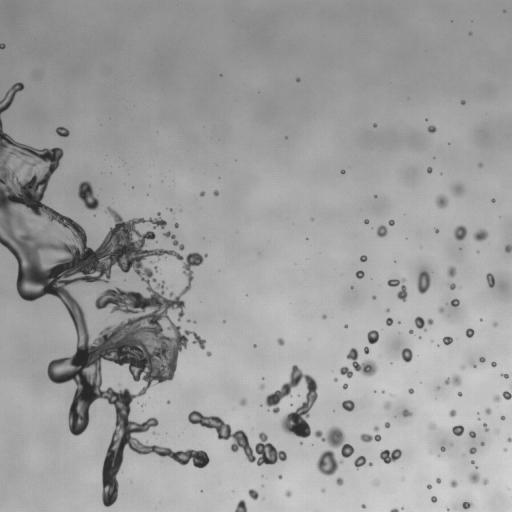droplet: (77, 181, 100, 211), (468, 466, 488, 485), (379, 448, 402, 463), (417, 270, 430, 294), (414, 316, 433, 331), (444, 373, 462, 386), (453, 225, 467, 241), (450, 182, 465, 196), (435, 194, 448, 209), (366, 330, 379, 344), (473, 229, 488, 241), (339, 366, 354, 378), (354, 455, 366, 470), (341, 399, 354, 411), (234, 499, 247, 511), (55, 126, 69, 137), (401, 348, 412, 362), (452, 424, 464, 436), (486, 272, 495, 287), (376, 225, 387, 237), (52, 136, 63, 147), (34, 140, 45, 151), (91, 187, 102, 198), (446, 193, 457, 204), (444, 226, 455, 237), (97, 227, 108, 238), (161, 238, 172, 249), (87, 239, 98, 250), (143, 239, 154, 250), (406, 284, 417, 295), (167, 306, 178, 317), (178, 320, 189, 331), (375, 321, 386, 332), (453, 329, 464, 340), (185, 339, 196, 350), (65, 345, 76, 356), (66, 379, 77, 390), (296, 380, 307, 391), (278, 396, 289, 407), (292, 396, 303, 407), (402, 396, 413, 407), (92, 397, 103, 408), (450, 397, 461, 408), (59, 414, 70, 425), (304, 414, 315, 425), (486, 414, 497, 425), (247, 435, 258, 446), (156, 437, 167, 448), (377, 439, 388, 450), (319, 440, 330, 451), (458, 475, 469, 486), (278, 479, 289, 490), (93, 483, 104, 494), (442, 336, 455, 345), (248, 489, 258, 500), (447, 266, 456, 277), (465, 328, 474, 338), (427, 421, 436, 431), (401, 409, 412, 417), (461, 502, 473, 509), (355, 270, 364, 279), (276, 337, 285, 346), (238, 397, 247, 406), (444, 190, 453, 199), (428, 200, 437, 209), (96, 202, 105, 211), (439, 206, 448, 215), (370, 219, 379, 228), (164, 222, 173, 231), (153, 226, 162, 235), (465, 230, 474, 239), (356, 261, 365, 270), (449, 289, 458, 298), (44, 292, 53, 301), (483, 317, 492, 326), (176, 350, 185, 359), (356, 354, 365, 363), (344, 359, 353, 368), (299, 365, 308, 374), (352, 369, 361, 378), (458, 370, 467, 379), (486, 399, 495, 408), (474, 425, 483, 434), (377, 426, 386, 435), (290, 433, 299, 442), (470, 437, 479, 446), (191, 442, 200, 451), (97, 451, 106, 460), (333, 468, 342, 477), (477, 469, 486, 478), (94, 472, 103, 481), (114, 472, 123, 481), (441, 477, 450, 486), (244, 497, 253, 506), (427, 125, 436, 133), (468, 359, 476, 368), (383, 400, 391, 409), (449, 479, 458, 487), (104, 505, 115, 511), (493, 394, 501, 402), (468, 430, 476, 438), (386, 317, 393, 326), (363, 345, 370, 354), (504, 244, 511, 252), (449, 409, 456, 417), (469, 446, 476, 454), (336, 477, 343, 485), (285, 489, 292, 497), (0, 89, 5, 100), (483, 422, 489, 431), (360, 255, 367, 262), (258, 383, 265, 390), (430, 496, 437, 503), (427, 118, 434, 125), (1, 126, 8, 133), (46, 143, 53, 150), (58, 157, 65, 164), (49, 172, 56, 179), (46, 179, 53, 186), (72, 186, 79, 193), (205, 189, 212, 196), (40, 197, 47, 204), (77, 199, 84, 206), (87, 208, 94, 215), (61, 209, 68, 216), (150, 212, 157, 219), (71, 215, 78, 222), (121, 215, 128, 222), (102, 227, 109, 234), (448, 232, 455, 239), (479, 238, 486, 245), (456, 239, 463, 246), (172, 245, 179, 252), (180, 250, 187, 257), (450, 260, 457, 267), (441, 268, 448, 275), (11, 270, 18, 277), (447, 276, 454, 283), (481, 279, 488, 286), (10, 285, 17, 292), (393, 285, 400, 292), (15, 295, 22, 302), (33, 297, 40, 304), (24, 299, 31, 306), (409, 322, 416, 329), (186, 323, 193, 330), (413, 327, 420, 334), (186, 333, 193, 340), (362, 339, 369, 346), (367, 342, 374, 349), (356, 347, 363, 354), (54, 352, 61, 359), (484, 357, 491, 364), (347, 364, 354, 371), (340, 374, 347, 381), (283, 376, 290, 383), (314, 378, 321, 385), (162, 379, 169, 386), (275, 383, 282, 390), (289, 386, 296, 393), (315, 386, 322, 393), (267, 387, 274, 394), (234, 393, 241, 400), (382, 393, 389, 400), (299, 395, 306, 402), (66, 396, 73, 403), (259, 396, 266, 403), (232, 399, 239, 406), (245, 399, 252, 406), (128, 401, 135, 408), (108, 404, 115, 411), (289, 405, 296, 412), (395, 408, 402, 415), (479, 411, 486, 418), (127, 414, 134, 421), (222, 416, 229, 423), (84, 425, 91, 432), (209, 427, 216, 434), (81, 429, 88, 436), (368, 429, 375, 436), (461, 430, 468, 437), (129, 431, 136, 438), (308, 432, 315, 439), (227, 436, 234, 443), (475, 444, 482, 451), (236, 446, 243, 453), (149, 451, 156, 458), (350, 452, 357, 459), (313, 453, 320, 460), (164, 455, 171, 462), (172, 460, 179, 467), (119, 461, 126, 468), (429, 478, 436, 485), (116, 485, 123, 492), (253, 485, 260, 492), (427, 489, 434, 496), (96, 496, 103, 503), (231, 500, 238, 507), (111, 501, 118, 508), (485, 407, 491, 415), (506, 412, 511, 421), (388, 219, 394, 226), (449, 283, 455, 290), (438, 306, 444, 313), (478, 356, 485, 362), (342, 382, 348, 389), (384, 422, 390, 429), (373, 479, 379, 486), (199, 190, 205, 196), (213, 190, 219, 196), (206, 350, 212, 356), (408, 388, 414, 394), (373, 425, 379, 431), (435, 477, 441, 483), (427, 166, 432, 173), (459, 365, 466, 370), (0, 43, 5, 49), (477, 162, 483, 167), (321, 314, 327, 319), (492, 321, 497, 327), (491, 361, 496, 367), (494, 428, 499, 434), (426, 484, 432, 489), (445, 505, 450, 511), (507, 238, 511, 245), (460, 100, 465, 105), (340, 169, 345, 174), (364, 219, 369, 224), (434, 228, 439, 233), (333, 377, 338, 382), (500, 415, 505, 420), (506, 437, 511, 442), (440, 446, 445, 451), (295, 72, 300, 77), (17, 77, 22, 82), (9, 80, 14, 85), (22, 81, 27, 86), (15, 90, 20, 95), (460, 95, 465, 100), (8, 104, 13, 109), (2, 109, 7, 114), (1, 120, 6, 125), (58, 121, 63, 126), (55, 122, 60, 127), (63, 123, 68, 128), (435, 126, 440, 131), (68, 130, 73, 135), (428, 131, 433, 136), (431, 131, 436, 136), (79, 177, 84, 182), (198, 186, 203, 191), (43, 190, 48, 195), (194, 191, 199, 196), (213, 195, 218, 200), (55, 207, 60, 212), (136, 213, 141, 218), (364, 214, 369, 219), (143, 215, 148, 220), (161, 215, 166, 220), (456, 221, 461, 226), (110, 222, 115, 227), (156, 224, 161, 229), (385, 224, 390, 229), (372, 227, 377, 232), (174, 235, 179, 240), (376, 235, 381, 240), (381, 235, 386, 240), (177, 239, 182, 244), (141, 245, 146, 250), (500, 245, 505, 250), (199, 251, 204, 256), (9, 253, 14, 258), (202, 257, 207, 262), (12, 258, 17, 263), (13, 261, 18, 266), (189, 264, 194, 269), (454, 267, 459, 272), (389, 274, 394, 279), (493, 276, 498, 281), (190, 279, 195, 284), (454, 282, 459, 287), (425, 288, 430, 293), (186, 289, 191, 294), (15, 293, 20, 298), (405, 294, 410, 299), (179, 295, 184, 300), (397, 298, 402, 303), (440, 302, 445, 307), (447, 303, 452, 308), (175, 307, 180, 312), (182, 307, 187, 312), (320, 309, 325, 314), (325, 311, 330, 316), (386, 312, 391, 317), (413, 312, 418, 317), (316, 314, 321, 319), (180, 315, 185, 320), (325, 316, 330, 321), (422, 316, 427, 321), (67, 317, 72, 322), (392, 318, 397, 323), (432, 319, 437, 324), (173, 320, 178, 325), (423, 321, 428, 326), (371, 325, 376, 330), (179, 329, 184, 334), (461, 332, 466, 337), (276, 333, 281, 338), (72, 334, 77, 339), (199, 334, 204, 339), (281, 335, 286, 340), (377, 335, 382, 340), (273, 340, 278, 345), (203, 341, 208, 346), (431, 341, 436, 346), (439, 341, 444, 346), (194, 342, 199, 347), (404, 343, 409, 348), (397, 347, 402, 352), (344, 349, 349, 354), (210, 352, 215, 357), (398, 356, 403, 361), (410, 356, 415, 361), (46, 357, 51, 362), (475, 360, 480, 365), (43, 363, 48, 368), (287, 367, 292, 372), (173, 369, 178, 374), (335, 369, 340, 374), (441, 375, 446, 380), (448, 381, 453, 386), (440, 382, 445, 387), (456, 386, 461, 391), (145, 388, 150, 393), (376, 388, 381, 393), (384, 389, 389, 394), (343, 395, 348, 400), (387, 396, 392, 401), (314, 398, 319, 403), (353, 401, 358, 406), (262, 403, 267, 408), (337, 403, 342, 408), (236, 404, 241, 409), (242, 404, 247, 409), (450, 404, 455, 409), (352, 406, 357, 411), (407, 407, 412, 412), (186, 408, 191, 413), (341, 408, 346, 413), (445, 408, 450, 413), (307, 409, 312, 414), (479, 409, 484, 414), (268, 410, 273, 415), (455, 410, 460, 415), (201, 411, 206, 416), (212, 411, 217, 416), (183, 414, 188, 419), (405, 415, 410, 420), (478, 419, 483, 424), (454, 420, 459, 425), (188, 422, 193, 427), (195, 422, 200, 427), (435, 423, 440, 428), (148, 426, 153, 431), (376, 429, 381, 434), (264, 430, 269, 435), (68, 432, 73, 437), (451, 433, 456, 438), (457, 434, 462, 439), (297, 435, 302, 440), (219, 438, 224, 443), (370, 438, 375, 443), (105, 440, 110, 445), (348, 440, 353, 445), (147, 441, 152, 446), (271, 441, 276, 446), (381, 445, 386, 450), (181, 446, 186, 451), (275, 446, 280, 451), (171, 447, 176, 452), (227, 448, 232, 453), (464, 449, 469, 454), (375, 450, 380, 455), (361, 451, 366, 456), (206, 452, 211, 457), (285, 452, 290, 457), (140, 453, 145, 458), (469, 453, 474, 458), (365, 457, 370, 462), (276, 458, 281, 463), (378, 458, 383, 463), (251, 460, 256, 465), (389, 460, 394, 465), (261, 462, 266, 467), (363, 462, 368, 467), (469, 463, 474, 468), (203, 464, 208, 469), (358, 465, 363, 470), (194, 466, 199, 471), (342, 478, 347, 483), (455, 478, 460, 483), (288, 486, 293, 491), (449, 486, 454, 491), (280, 489, 285, 494), (290, 492, 295, 497), (257, 493, 262, 498), (284, 496, 289, 501), (464, 497, 469, 502), (389, 504, 394, 509), (174, 222, 178, 228), (408, 329, 414, 333), (296, 77, 300, 82), (373, 122, 377, 127), (372, 295, 377, 299), (385, 308, 390, 312), (389, 393, 394, 397), (457, 392, 462, 396), (480, 441, 484, 446), (470, 460, 475, 464), (368, 462, 373, 466), (278, 474, 282, 479), (400, 476, 404, 481), (361, 504, 366, 508), (468, 31, 472, 35), (373, 194, 377, 198), (491, 198, 495, 202), (310, 217, 314, 221), (344, 324, 348, 328), (253, 344, 257, 348), (436, 386, 440, 390), (166, 400, 170, 404), (503, 447, 507, 451), (321, 488, 325, 492), (508, 250, 511, 255), (508, 373, 511, 378), (508, 397, 511, 402), (508, 441, 511, 446), (360, 508, 365, 511), (397, 508, 402, 511), (463, 508, 468, 511), (502, 9, 506, 12), (458, 247, 462, 250), (350, 285, 353, 289), (222, 320, 226, 323), (397, 321, 401, 324), (430, 339, 434, 342), (261, 377, 265, 380), (381, 390, 385, 393), (152, 431, 156, 434), (0, 38, 2, 43), (0, 95, 2, 100), (0, 242, 2, 247), (219, 73, 222, 76), (131, 186, 134, 189), (305, 237, 308, 240), (476, 250, 479, 253), (393, 260, 396, 263), (308, 337, 311, 340), (418, 336, 421, 339), (373, 390, 376, 393), (297, 394, 300, 397), (290, 403, 293, 406), (332, 409, 335, 412), (477, 417, 480, 420), (450, 442, 453, 445), (467, 28, 470, 31), (465, 31, 468, 34), (471, 32, 474, 35), (468, 35, 471, 38), (219, 70, 222, 73), (217, 75, 220, 78), (299, 77, 302, 80), (292, 78, 295, 81), (295, 81, 298, 84), (4, 88, 7, 91), (457, 100, 460, 103), (464, 102, 467, 105), (459, 103, 462, 106), (421, 117, 424, 120), (375, 121, 378, 124), (369, 123, 372, 126), (374, 126, 377, 129), (284, 132, 287, 135), (287, 135, 290, 138), (281, 136, 284, 139), (448, 139, 451, 142), (444, 141, 447, 144), (447, 144, 450, 147), (429, 164, 432, 167), (341, 166, 344, 169), (431, 169, 434, 172), (424, 170, 427, 173), (340, 173, 343, 176), (131, 182, 134, 185), (128, 185, 131, 188), (133, 186, 136, 189), (218, 191, 221, 194), (373, 191, 376, 194), (376, 194, 379, 197), (201, 195, 204, 198), (371, 196, 374, 199), (489, 196, 492, 199), (494, 197, 497, 200), (494, 200, 497, 203), (489, 201, 492, 204), (166, 208, 169, 211), (172, 208, 175, 211), (390, 216, 393, 219), (361, 218, 364, 221), (393, 219, 396, 222), (368, 220, 371, 223), (393, 222, 396, 225), (364, 223, 367, 226), (177, 224, 180, 227), (434, 225, 437, 228), (432, 228, 435, 231), (438, 228, 441, 231), (437, 231, 440, 234), (307, 235, 310, 238), (170, 238, 173, 241), (304, 239, 307, 242), (363, 252, 366, 255), (207, 253, 210, 256), (357, 254, 360, 257), (366, 255, 369, 258), (394, 257, 397, 260), (357, 258, 360, 261), (363, 260, 366, 263), (392, 262, 395, 265), (355, 268, 358, 271), (361, 268, 364, 271), (191, 273, 194, 276), (353, 275, 356, 278), (483, 275, 486, 278), (361, 276, 364, 279), (384, 281, 387, 284), (403, 282, 406, 285), (446, 284, 449, 287), (347, 285, 350, 288), (488, 286, 491, 289), (352, 287, 355, 290), (447, 287, 450, 290), (453, 287, 456, 290), (371, 292, 374, 295), (247, 293, 250, 296), (243, 295, 246, 298), (375, 296, 378, 299), (456, 296, 459, 299), (369, 297, 372, 300), (449, 297, 452, 300), (372, 299, 375, 302), (458, 299, 461, 302), (385, 305, 388, 308), (451, 305, 454, 308), (455, 305, 458, 308), (480, 315, 483, 318), (222, 316, 225, 319), (383, 317, 386, 320), (322, 318, 325, 321), (476, 318, 479, 321), (219, 319, 222, 322), (225, 319, 228, 322), (196, 320, 199, 323), (400, 320, 403, 323), (341, 323, 344, 326), (347, 324, 350, 327), (385, 324, 388, 327), (468, 325, 471, 328), (495, 325, 498, 328), (471, 326, 474, 329), (343, 327, 346, 330), (406, 327, 409, 330), (473, 330, 476, 333), (196, 332, 199, 335), (409, 333, 412, 336), (446, 333, 449, 336), (472, 333, 475, 336), (253, 340, 256, 343), (449, 342, 452, 345), (250, 343, 253, 346), (434, 345, 437, 348), (254, 346, 257, 349), (368, 350, 371, 353), (482, 354, 485, 357), (208, 355, 211, 358), (491, 358, 494, 361), (495, 360, 498, 363), (387, 363, 390, 366), (494, 365, 497, 368), (472, 367, 475, 370), (502, 370, 505, 373), (261, 373, 264, 376), (501, 376, 504, 379), (330, 377, 333, 380), (260, 379, 263, 382), (340, 382, 343, 385), (339, 385, 342, 388), (407, 385, 410, 388), (346, 386, 349, 389), (371, 387, 374, 390), (380, 387, 383, 390), (412, 387, 415, 390), (405, 388, 408, 391), (370, 390, 373, 393), (411, 392, 414, 395), (461, 392, 464, 395), (457, 395, 460, 398), (500, 395, 503, 398), (164, 398, 167, 401), (169, 399, 172, 402), (166, 403, 169, 406), (142, 405, 145, 408), (329, 409, 332, 412), (473, 411, 476, 414), (500, 412, 503, 415), (476, 414, 479, 417), (497, 415, 500, 418), (504, 415, 507, 418), (155, 416, 158, 419), (500, 419, 503, 422), (388, 420, 391, 423), (486, 424, 489, 427), (388, 425, 391, 428), (449, 427, 452, 430), (474, 430, 477, 433), (475, 433, 478, 436), (505, 435, 508, 438), (379, 438, 382, 441), (483, 441, 486, 444), (443, 444, 446, 447), (468, 445, 471, 448), (437, 448, 440, 451), (474, 451, 477, 454), (503, 451, 506, 454), (400, 452, 403, 455), (384, 462, 387, 465), (473, 462, 476, 465), (353, 465, 356, 468), (369, 465, 372, 468), (475, 468, 478, 471), (281, 474, 284, 477), (275, 476, 278, 479), (440, 479, 443, 482), (263, 483, 266, 486), (485, 483, 488, 486), (199, 486, 202, 489), (424, 486, 427, 489), (202, 488, 205, 491), (318, 490, 321, 493), (198, 491, 201, 494), (323, 491, 326, 494), (436, 498, 439, 501), (428, 499, 431, 502), (364, 502, 367, 505), (403, 505, 406, 508), (447, 505, 450, 508), (262, 496, 264, 500), (425, 118, 427, 121), (285, 136, 287, 139), (432, 157, 435, 159), (440, 172, 442, 175), (93, 214, 95, 217), (480, 318, 482, 321), (390, 362, 393, 364), (419, 381, 422, 383), (259, 404, 262, 406), (477, 411, 479, 414), (261, 474, 263, 477), (261, 484, 263, 487), (200, 489, 202, 492), (231, 490, 234, 492), (509, 435, 511, 438), (444, 509, 447, 511), (448, 509, 451, 511), (448, 142, 450, 144), (371, 227, 373, 229), (405, 237, 407, 239), (245, 294, 247, 296), (437, 344, 439, 346), (394, 415, 396, 417), (0, 48, 1, 51), (218, 177, 220, 178), (462, 454, 464, 455), (451, 20, 452, 21), (203, 237, 204, 238), (99, 319, 100, 320), (137, 402, 138, 403)
ligament: (264, 364, 354, 475), (188, 410, 287, 466), (346, 347, 378, 377), (162, 230, 184, 250), (360, 433, 381, 442), (502, 383, 511, 399), (445, 298, 459, 306), (390, 506, 404, 511), (166, 207, 174, 214), (500, 373, 509, 378), (186, 319, 196, 323), (30, 218, 36, 223), (140, 403, 146, 407), (453, 504, 456, 510), (437, 454, 440, 456)
